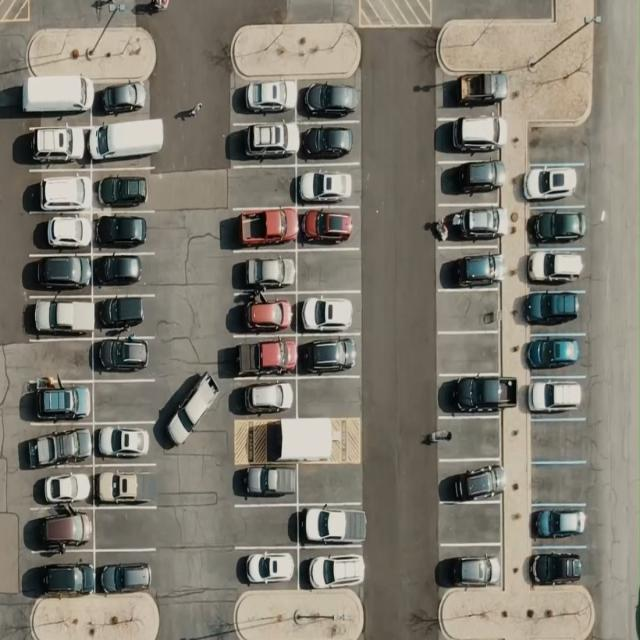space-empty: (25, 338, 94, 384), (438, 415, 506, 461), (231, 504, 298, 550), (438, 286, 502, 334), (437, 502, 504, 547), (93, 379, 160, 422), (94, 507, 160, 550), (297, 375, 360, 420), (228, 165, 295, 207), (528, 417, 590, 462), (296, 248, 360, 291), (296, 462, 359, 505), (529, 462, 589, 505), (530, 121, 586, 167), (438, 332, 499, 370)
space-occupied: (14, 74, 92, 124), (437, 370, 514, 420), (23, 118, 90, 171), (296, 498, 364, 550), (90, 116, 162, 165), (23, 290, 93, 338), (437, 110, 507, 158), (229, 248, 296, 295), (230, 120, 298, 166), (228, 372, 296, 418), (436, 246, 504, 292), (230, 543, 298, 589), (301, 548, 368, 594), (436, 202, 506, 246), (522, 286, 586, 334), (228, 206, 296, 251), (521, 160, 586, 207), (28, 377, 93, 424), (94, 462, 161, 507), (438, 160, 506, 204), (524, 206, 590, 251), (30, 423, 94, 469), (28, 167, 92, 213), (436, 546, 502, 590), (296, 288, 359, 334), (91, 165, 155, 210), (526, 370, 586, 418), (526, 245, 586, 293), (295, 162, 358, 207), (92, 208, 156, 252), (32, 464, 94, 509), (236, 461, 298, 506), (440, 460, 503, 504), (31, 210, 94, 254), (94, 550, 154, 596), (297, 205, 358, 250), (94, 336, 156, 380), (530, 502, 590, 547), (437, 72, 504, 112), (298, 334, 360, 377), (300, 121, 360, 165), (30, 510, 96, 550), (94, 422, 155, 465), (27, 558, 95, 596), (233, 80, 294, 122), (92, 252, 153, 294), (94, 294, 152, 337), (300, 81, 360, 122), (530, 334, 590, 375), (238, 294, 298, 334), (235, 336, 298, 374), (528, 546, 586, 586), (28, 256, 94, 290), (94, 83, 155, 118)
